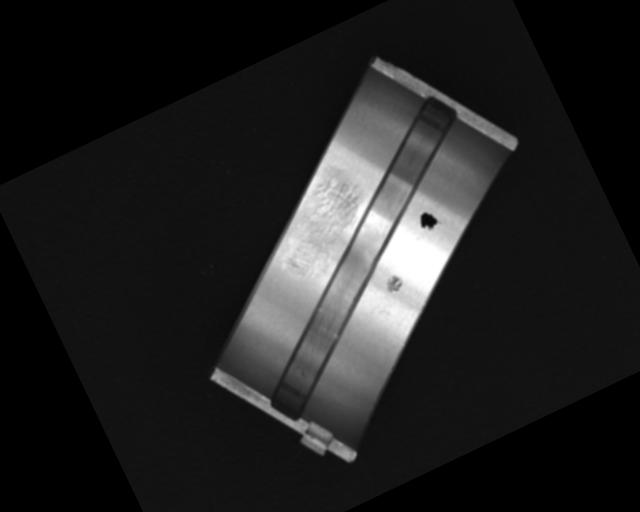blot: (415, 207, 444, 235)
bruise: (382, 271, 407, 297)
gap: (182, 92, 539, 425)
scratch: (262, 171, 385, 288)
